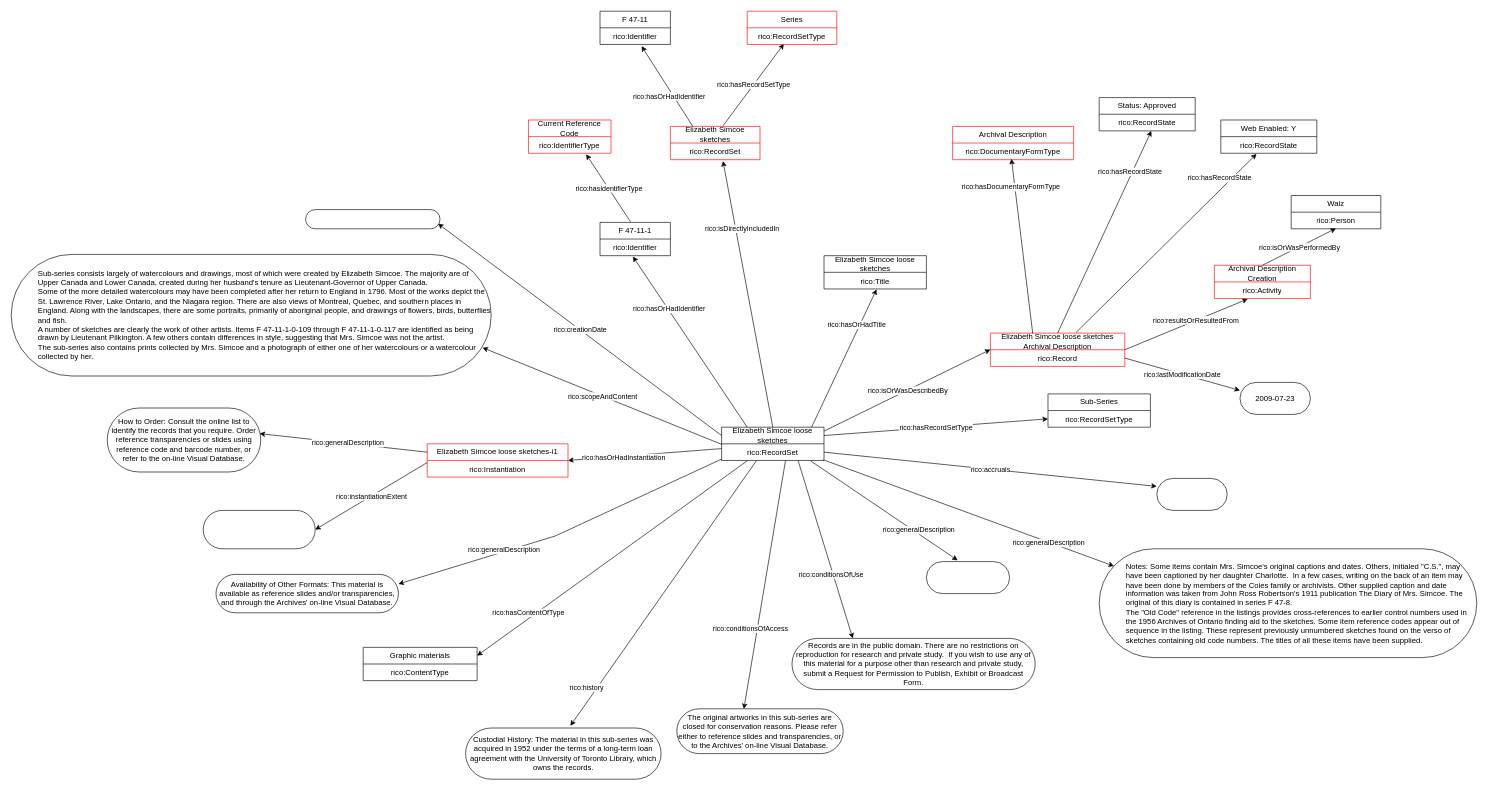
Image size: 1488x790. Some labels were removed from this diagram. The shapes that lost their labels are listed below. From the top down, each one's centre as x and y in pixels, then its label:
At [372,219]: "1791-1842, predominant 1791-1796".
At [1191,494]: "No further accruals are expected.".
At [259,529]: "318 watercolours 58 drawings 8 prints 1 photograph".
At [968,577]: "Finding Aid Note: An online list is available for this sub-series.".
